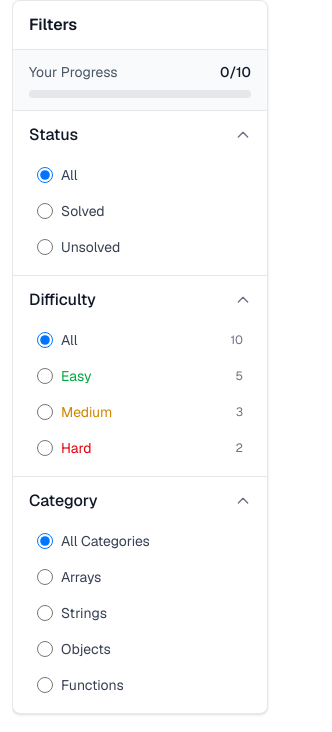
Test: FilterSidebar › Collapsible sections › should collapse Status section when clicking header
Click the button "Status": (140, 135) [13,111,267,159]
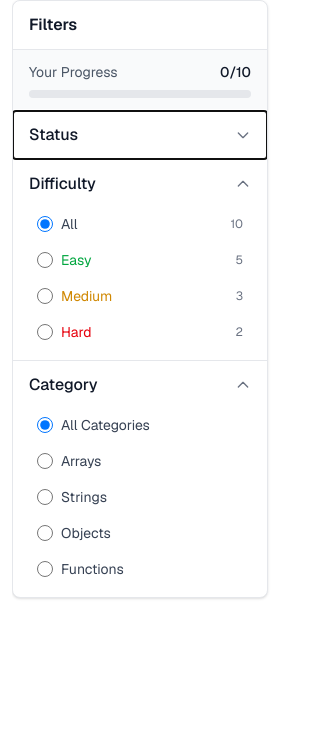
Now the text "Solved" is gone
Now the text "Unsolved" is gone
